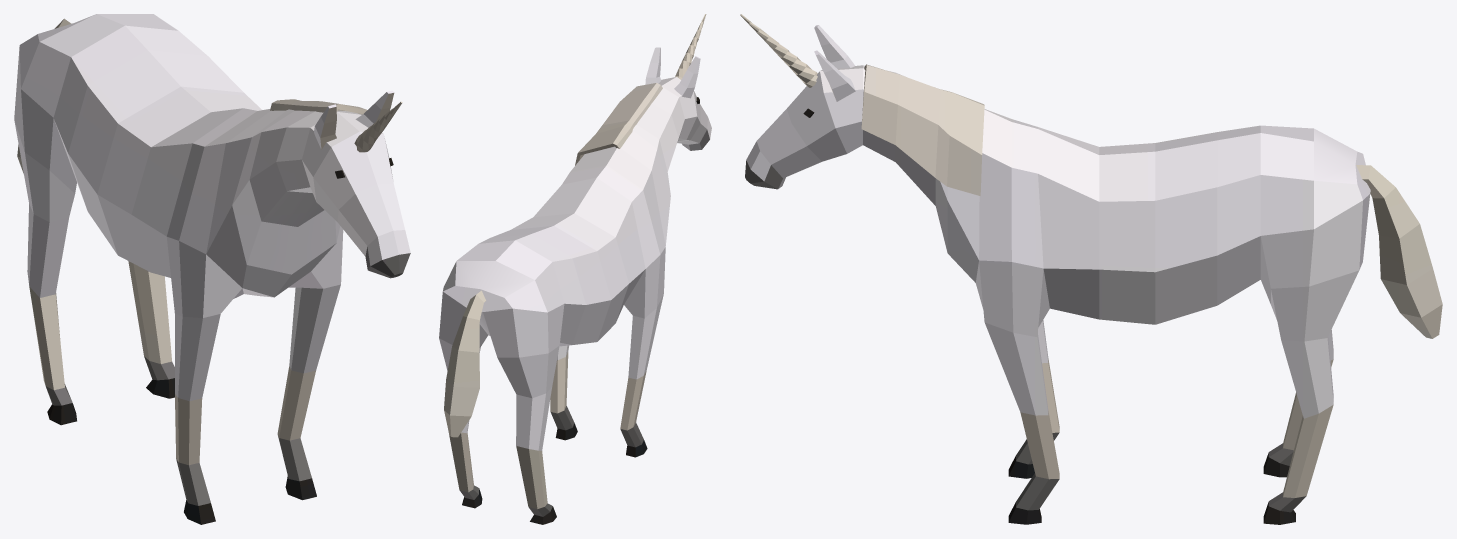
Rendered from 212RNECqFCA.glb.
The picture shows the model from 3 angles, left to right: view 1: azimuth 30°, elevation 25°; view 2: azimuth 150°, elevation 25°; view 3: azimuth 270°, elevation 25°; orthographic projection. The views are drawn at different scales.
Visible parts, largest first — view 1: Geo_Unicorn; view 2: Geo_Unicorn; view 3: Geo_Unicorn.
Boxes of the visible parts, x1,y1,x2,y2 form: Geo_Unicorn: (14,14,410,524); Geo_Unicorn: (439,14,711,524); Geo_Unicorn: (740,14,1442,524).
Bounding box in the file's own units: 0.3411 × 0.9999 × 1.32.
Materials: 1 (1 with a texture image).
